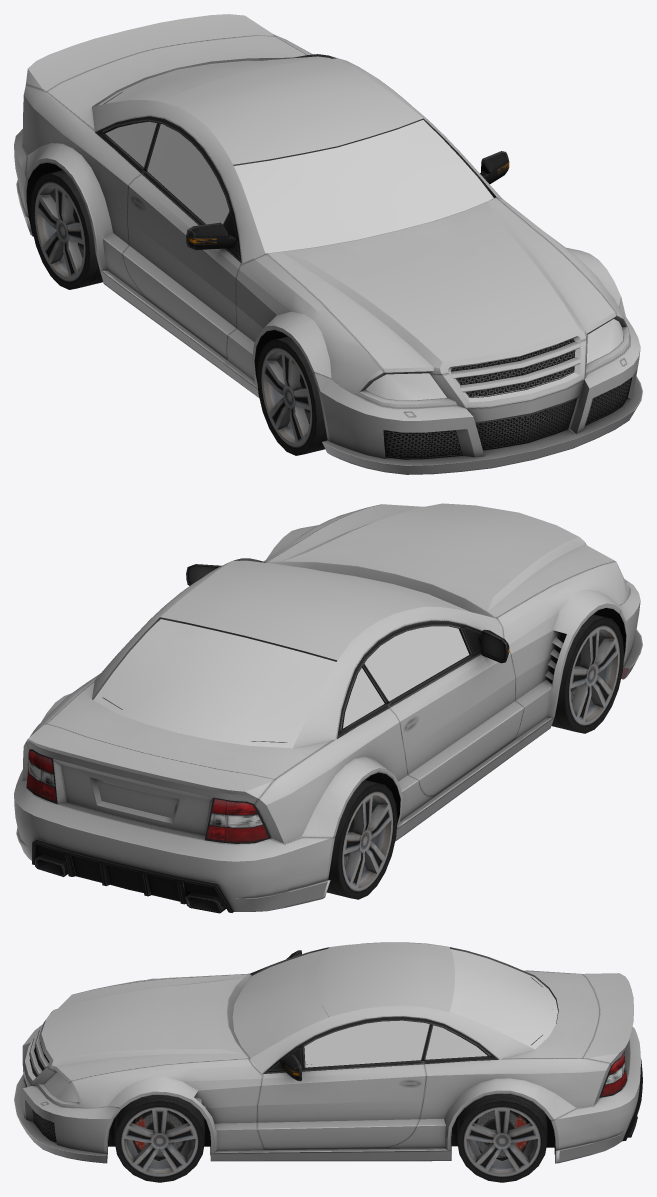
The picture shows the model from 3 angles, top to bottom: view 1: azimuth 30°, elevation 25°; view 2: azimuth 150°, elevation 25°; view 3: azimuth 270°, elevation 25°; orthographic projection. The views are drawn at different scales.
Parts seen in each view (by area): view 1: Body_20, Glass_20, Matte_20, Wheel_Back_R, Wheel_R, Glass_light; view 2: Body_20, Glass_20, Matte_20, Wheel_Back_R, Wheel_R, Taillights_20; view 3: Body_20, Glass_20, Wheel_Back_L, Wheel_L, Matte_20, break_L, Taillights_20, Glass_light.
Boxes of the visible parts, x1,y1,x2,y2 form: Body_20: [14, 14, 642, 474]; Glass_20: [98, 56, 493, 253]; Matte_20: [26, 116, 632, 459]; Wheel_Back_R: [30, 170, 102, 289]; Wheel_R: [257, 336, 327, 455]; Glass_light: [365, 319, 623, 400]; Body_20: [14, 503, 642, 911]; Glass_20: [93, 560, 469, 748]; Matte_20: [32, 560, 626, 913]; Wheel_Back_R: [327, 780, 397, 899]; Wheel_R: [551, 614, 624, 733]; Taillights_20: [26, 749, 270, 843]; Body_20: [14, 942, 640, 1163]; Glass_20: [232, 949, 557, 1067]; Wheel_Back_L: [457, 1094, 547, 1182]; Wheel_L: [114, 1095, 204, 1182]; Matte_20: [25, 950, 642, 1160]; break_L: [132, 1110, 186, 1160]; Taillights_20: [599, 1051, 627, 1097]; Glass_light: [44, 1072, 78, 1101].
Bounding box in the file's own units: 80.76 × 49.83 × 182.
